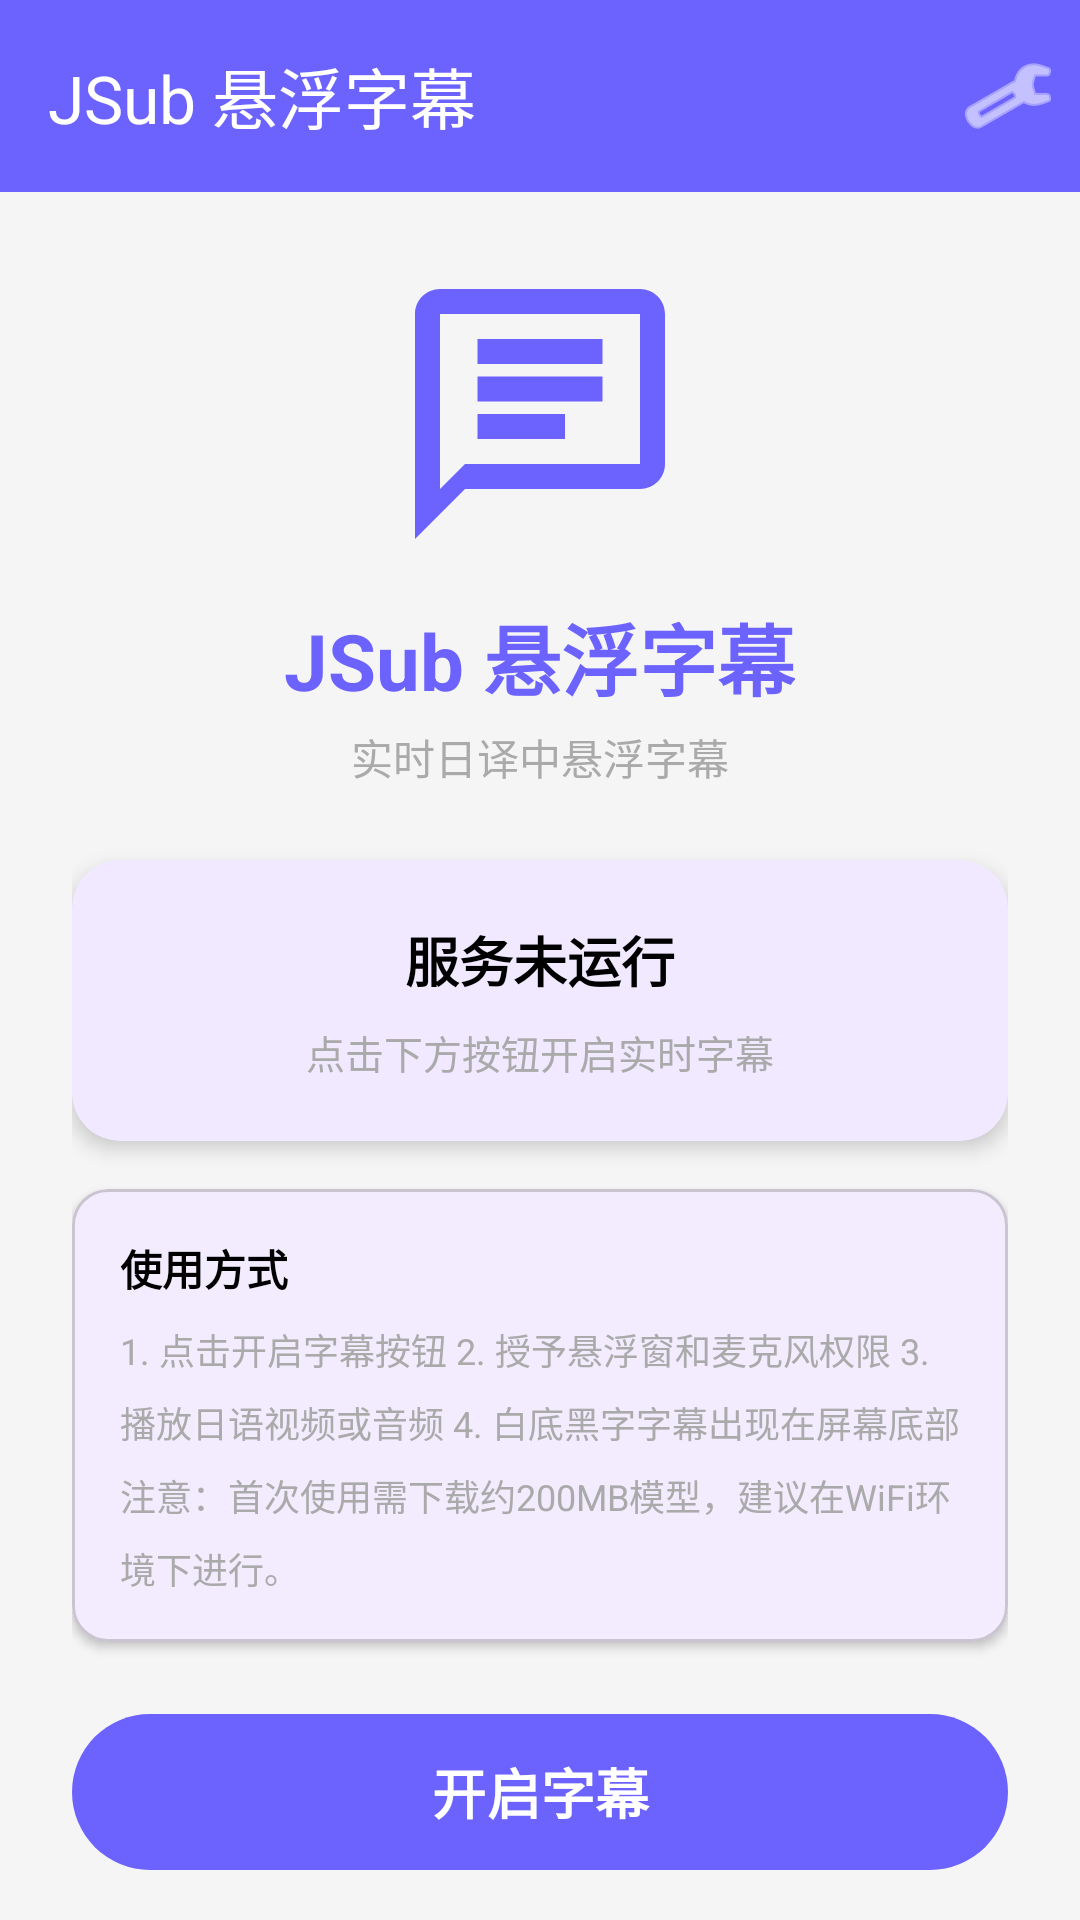

Icon bounding boxes for this 1080px x 1920px phone screenshot, format bbox=(x1, y1, x2, y2):
设置: bbox=(965, 63, 1051, 129)
